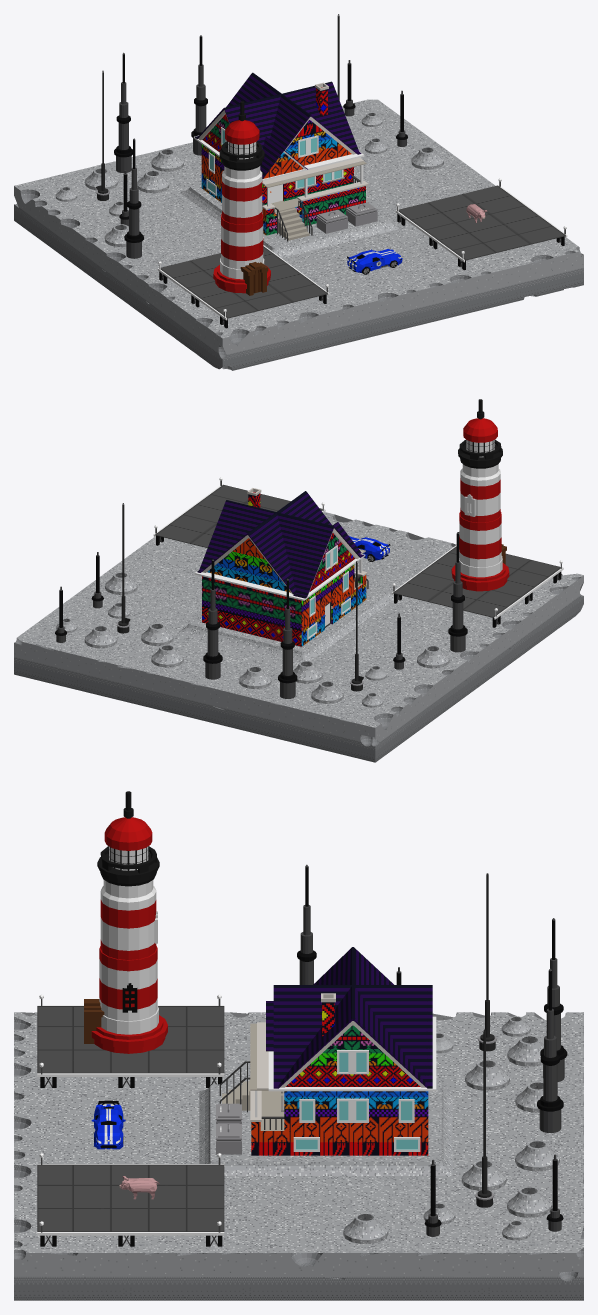
The picture shows the model from 3 angles, top to bottom: view 1: azimuth 30°, elevation 25°; view 2: azimuth 150°, elevation 25°; view 3: azimuth 270°, elevation 25°; orthographic projection. The views are drawn at different scales.
Visible parts, largest first — view 1: Cube.027, Cube.966, OBJRANDOM_LIGHTHOUSE, Cube.026, Cube.025, Cube.028, Cylinder.021, Cylinder.020, VEHICLES_RACING_CAR, Cylinder.017, Cube.029, Cube.030 (+4 smaller); view 2: Cube.027, Cube.966, OBJRANDOM_LIGHTHOUSE, Cube.025, Cube.028, Cube.026, Cylinder.021, Cylinder.017, Cylinder.020, VEHICLES_RACING_CAR, Cylinder.031, Cylinder.024 (+7 smaller); view 3: Cube.027, Cube.966, OBJRANDOM_LIGHTHOUSE, Cube.026, Cube.025, Cube.028, Cylinder.017, VEHICLES_RACING_CAR, Cylinder.020, Cylinder.021, Cylinder.031, Cylinder.033 (+7 smaller).
Boxes of the visible parts, left/top/right/bottom form: Cube.027: left=14, top=99, right=583, bottom=370; Cube.966: left=193, top=72, right=368, bottom=241; OBJRANDOM_LIGHTHOUSE: left=213, top=101, right=270, bottom=295; Cube.026: left=395, top=178, right=567, bottom=270; Cube.025: left=157, top=237, right=329, bottom=328; Cube.028: left=180, top=183, right=399, bottom=257; Cylinder.021: left=124, top=138, right=143, bottom=258; Cylinder.020: left=114, top=52, right=132, bottom=173; VEHICLES_RACING_CAR: left=347, top=249, right=402, bottom=274; Cylinder.017: left=191, top=35, right=207, bottom=155; Cube.029: left=316, top=209, right=347, bottom=233; Cube.030: left=346, top=202, right=377, bottom=226; Cube.027: left=14, top=512, right=583, bottom=762; Cube.966: left=194, top=488, right=368, bottom=646; OBJRANDOM_LIGHTHOUSE: left=451, top=399, right=509, bottom=591; Cube.025: left=391, top=545, right=563, bottom=627; Cube.028: left=179, top=585, right=393, bottom=662; Cube.026: left=153, top=477, right=325, bottom=547; Cylinder.021: left=448, top=532, right=467, bottom=652; Cylinder.017: left=203, top=559, right=222, bottom=679; Cylinder.020: left=278, top=578, right=297, bottom=698; VEHICLES_RACING_CAR: left=349, top=536, right=390, bottom=561; Cylinder.031: left=84, top=625, right=117, bottom=648; Cylinder.024: left=116, top=503, right=130, bottom=633; Cube.027: left=14, top=1012, right=583, bottom=1300; Cube.966: left=219, top=947, right=436, bottom=1155; OBJRANDOM_LIGHTHOUSE: left=84, top=791, right=167, bottom=1053; Cube.026: left=37, top=1153, right=224, bottom=1246; Cube.025: left=37, top=994, right=224, bottom=1087; Cube.028: left=199, top=1084, right=452, bottom=1175; Cylinder.017: left=537, top=968, right=563, bottom=1132; VEHICLES_RACING_CAR: left=91, top=1100, right=125, bottom=1149; Cylinder.020: left=540, top=918, right=567, bottom=1081; Cylinder.021: left=297, top=864, right=316, bottom=984; Cylinder.031: left=507, top=1186, right=551, bottom=1217; Cylinder.033: left=343, top=1213, right=388, bottom=1243.
Size of the model in its own units: 4000 by 2482 by 4000.
44 materials, 8 textured.
